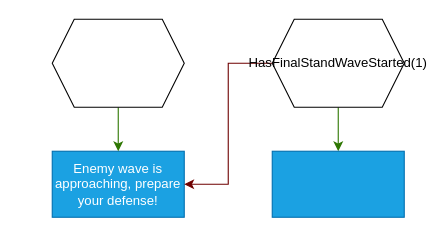
Image size: 447x237. Some labels were removed from this diagram. Each missing label, with the centre of its shape:
Enemy assault in progress!: point 337,183
HasFinalStandWaveScheduled(1): point 117,62
